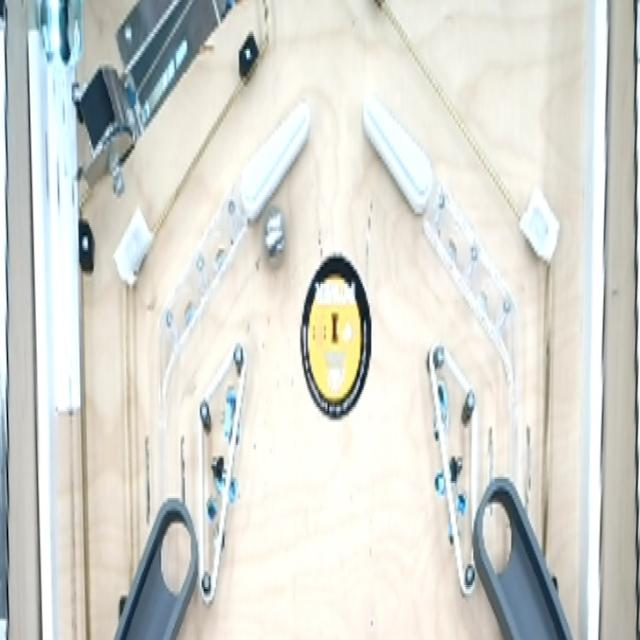ball: (261, 204, 291, 272)
flipper-left: (358, 89, 442, 242)
flipper-right: (236, 95, 314, 230)
